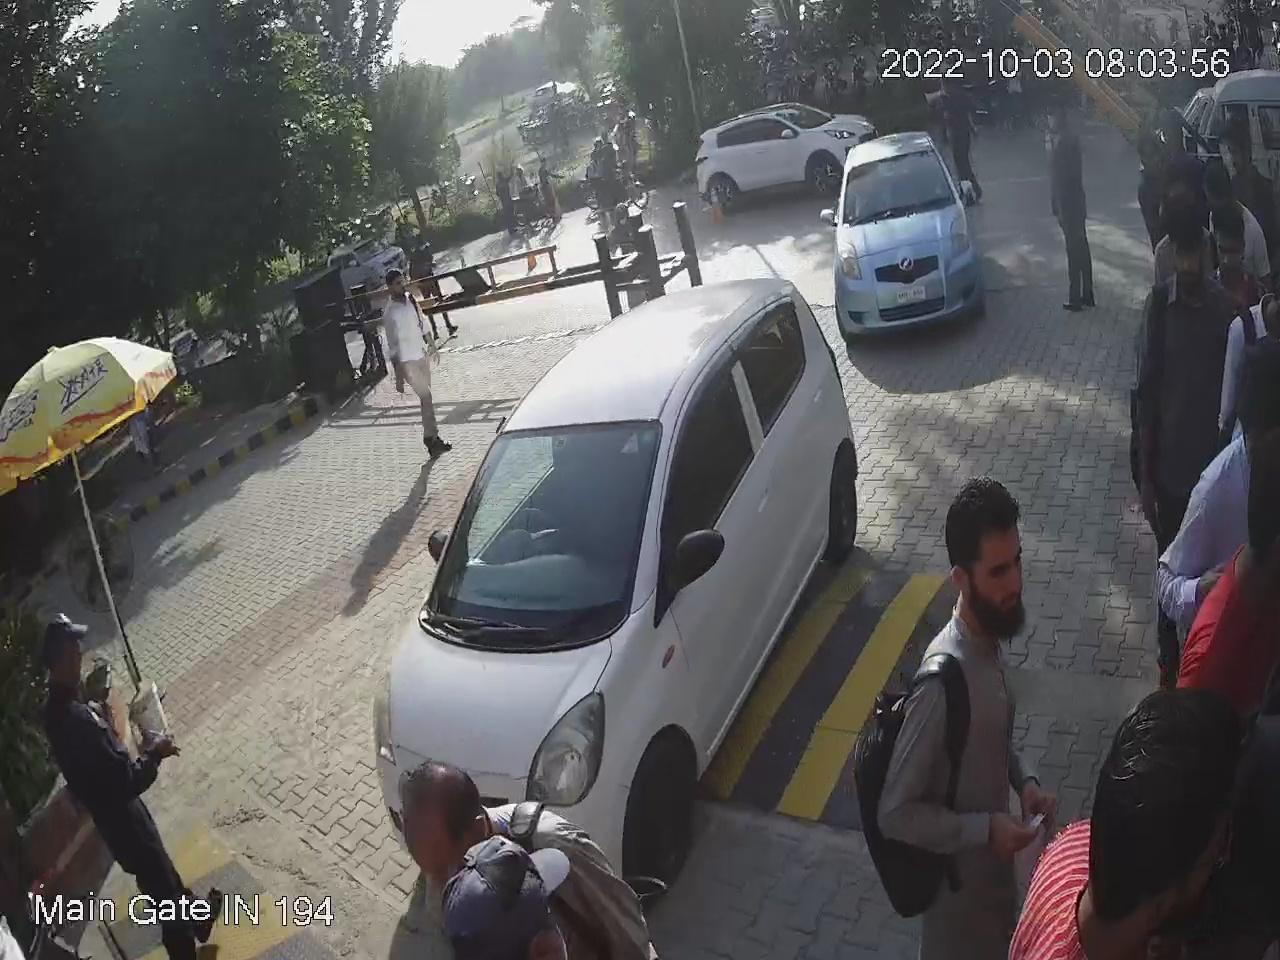windshield: (408, 412, 676, 652), (843, 145, 963, 235)
